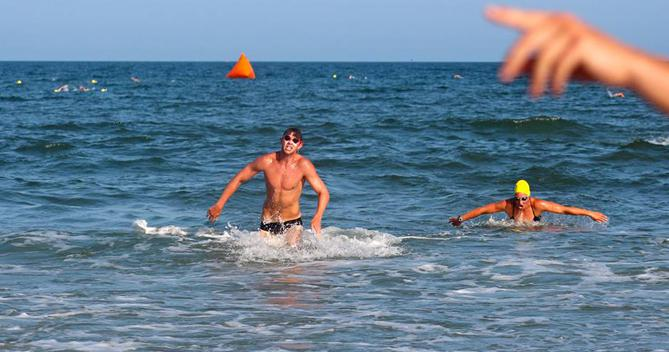human: (449, 178, 610, 231)
